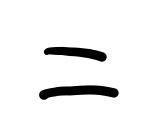eqv: (35, 44, 123, 102)
